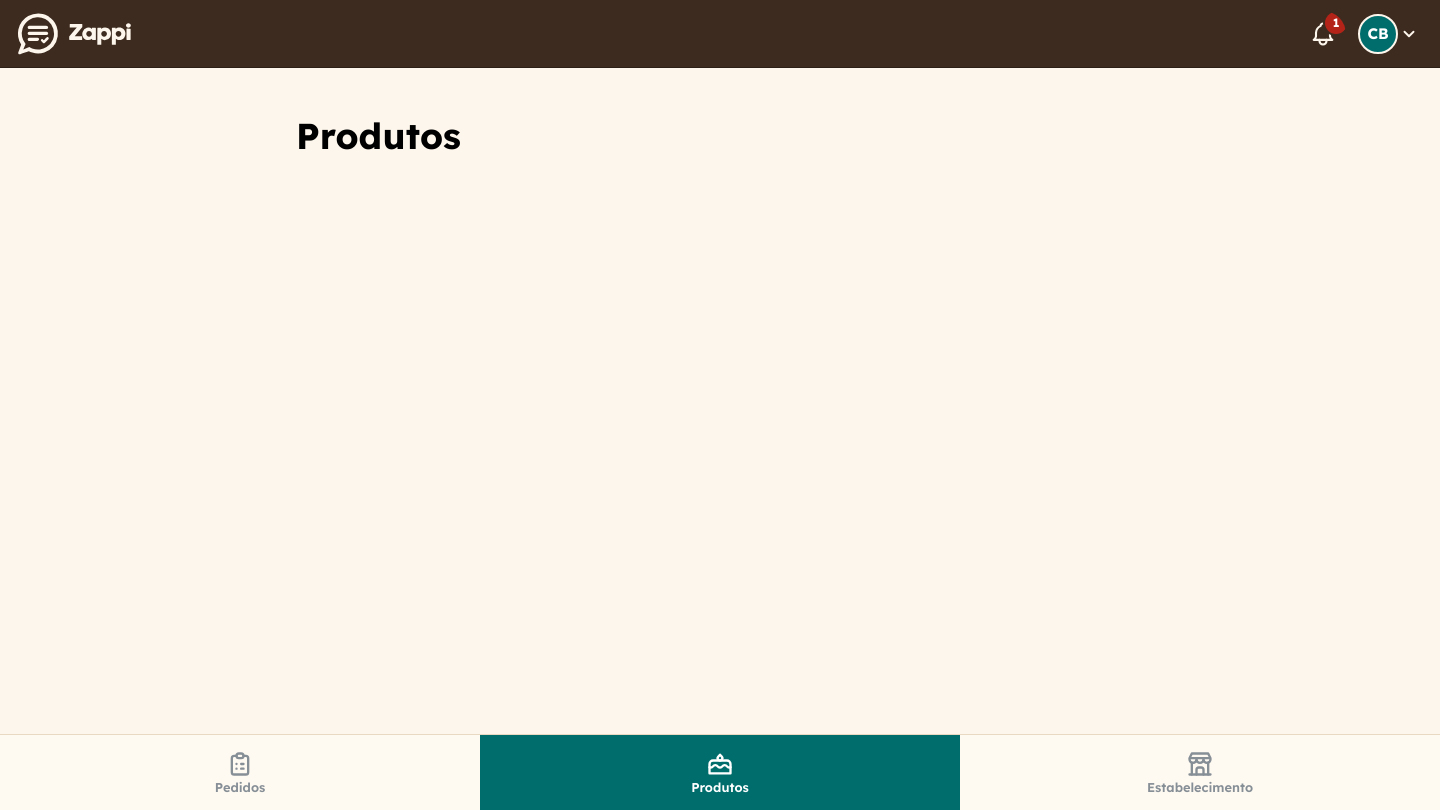
Test: sino de notificações (ZAP-175) › abrir mostra as notificações, marca as novas como vistas e zera o contador, mantendo o selo "Nova"
What coordinates should you click on to do the following:
click the button named "Notificações, 1 não vista"
I would click on:
 (1323, 34)
Its box is [1300,10,1346,56].
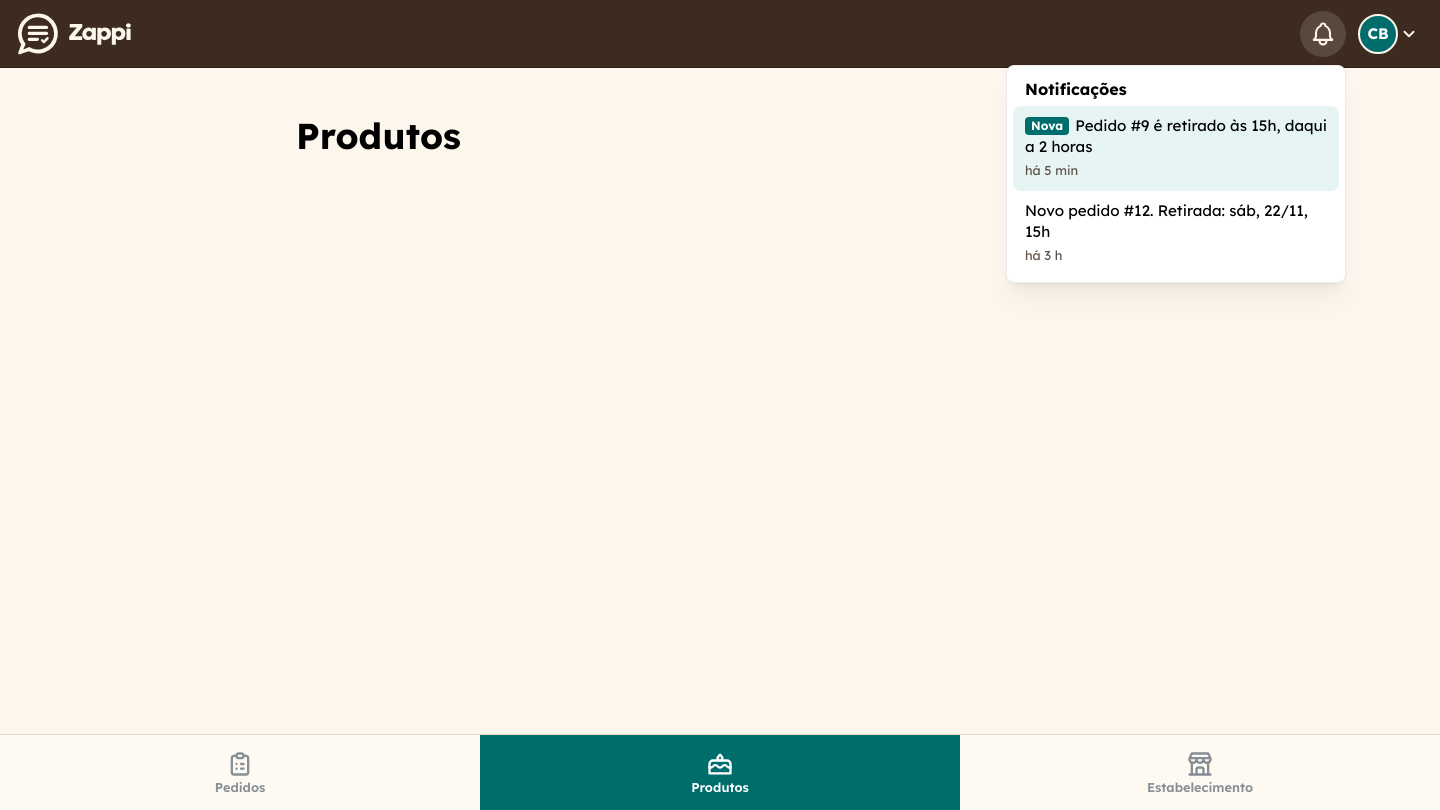
Expected: the menu items read "NovaPedido #9 é retirado às 15h, daqui a 2 horashá 5 min", "Novo pedido #12. Retirada: sáb, 22/11, 15hhá 3 h", in this order, [1013,106,1339,191]; [1013,191,1339,276]
